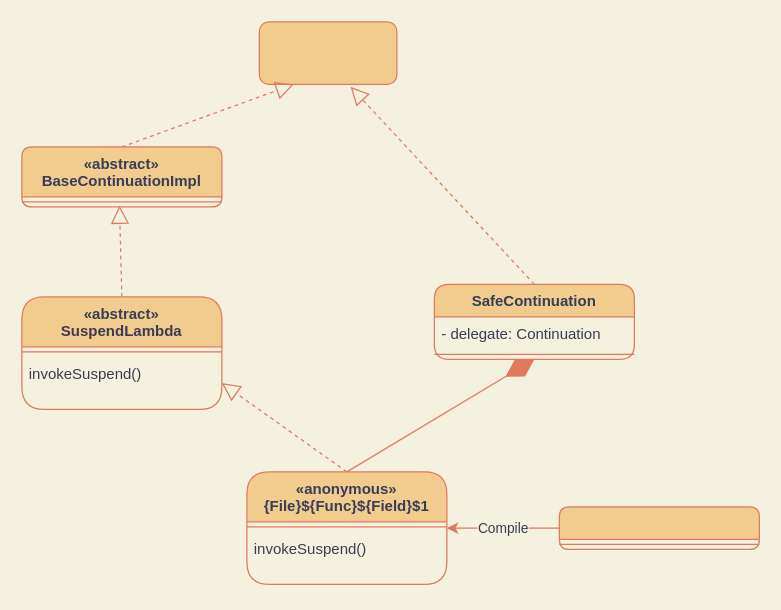
Some shapes in this 781 by 610 pixel diagram are drawn without their labels. The shapes that lost their labels are listed below. From the top down, each one's box as (x1, y1, x2, y2) in pixels, then its label:
(258, 21, 397, 84): «interface» Continuation
(558, 506, 759, 549): suspend_lambda
